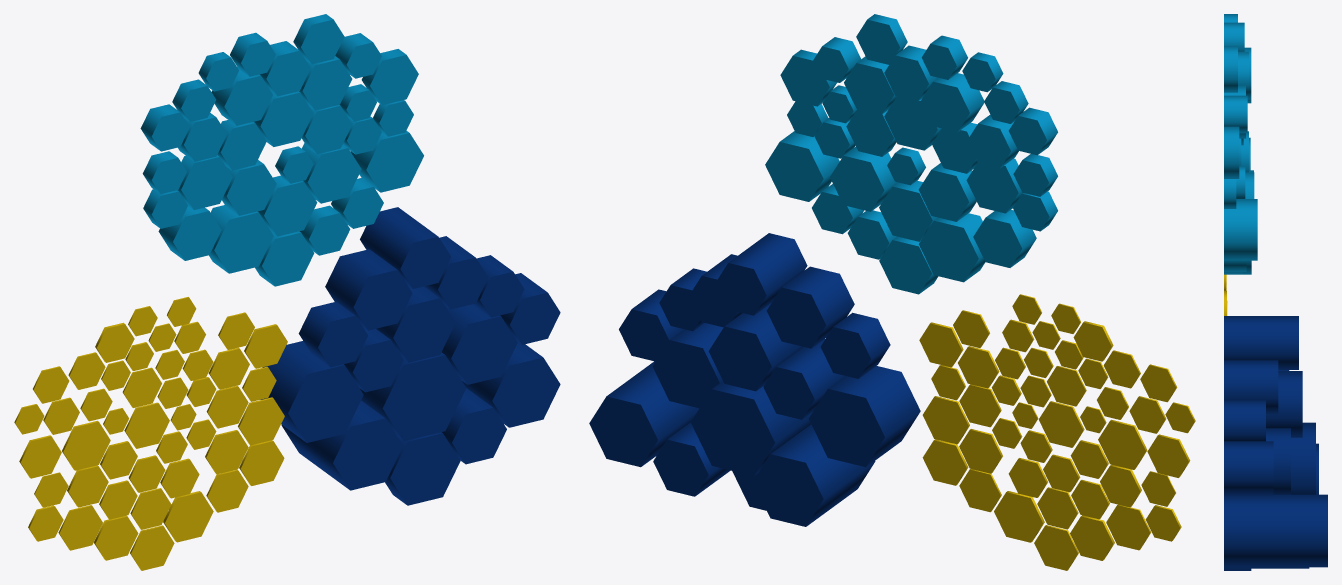
File: babylon_test_v4.glb
The picture shows the model from 3 angles, left to right: view 1: azimuth 30°, elevation 25°; view 2: azimuth 150°, elevation 25°; view 3: azimuth 270°, elevation 25°; orthographic projection. The views are drawn at different scales.
Visible parts, largest first — view 1: geo; view 2: geo; view 3: geo.
Part boxes in pixels (x1,y1,x2,y2): geo: (14,14,560,570); geo: (589,14,1195,570); geo: (1224,14,1327,570).
Bounding box in the file's own units: 10.39 × 9.19 × 1.85.
